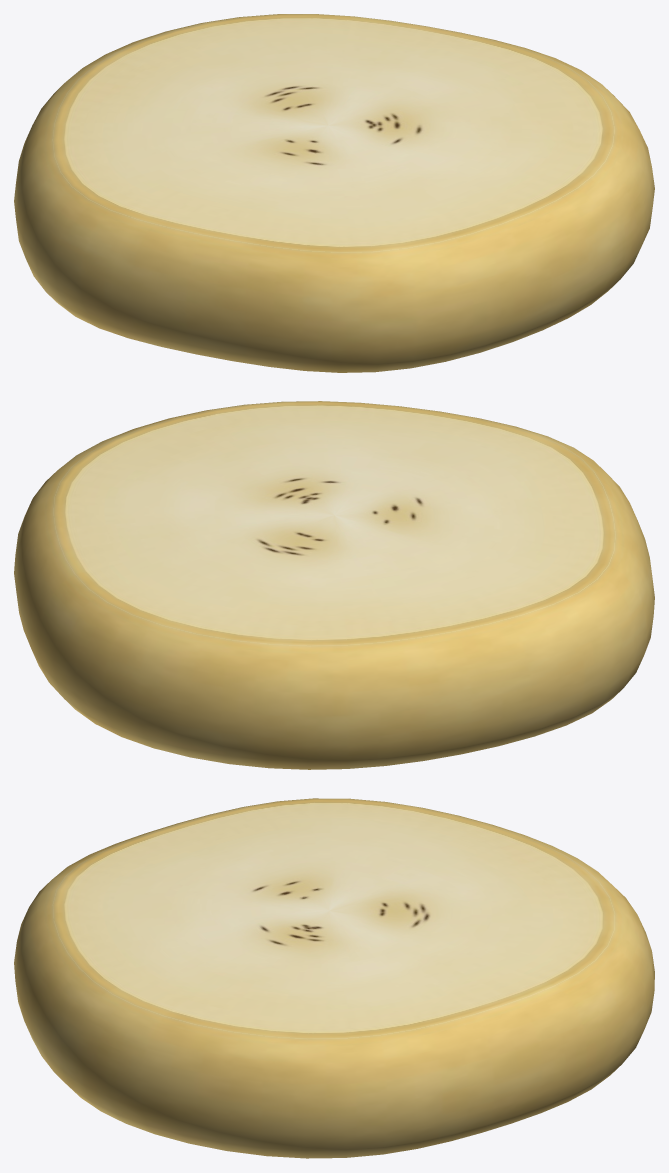
File: _pedacos_banana.glb
3 renders of one model, top to bottom at view 1: azimuth 30°, elevation 25°; view 2: azimuth 150°, elevation 25°; view 3: azimuth 270°, elevation 25°, orthographic. The views are drawn at different scales.
Parts seen in each view (by area): view 1: _pedacos_banana_5; view 2: _pedacos_banana_5; view 3: _pedacos_banana_5.
Part boxes in pixels (x1,y1,x2,y2): _pedacos_banana_5: (14, 14, 654, 372); _pedacos_banana_5: (14, 401, 654, 769); _pedacos_banana_5: (14, 798, 654, 1158).
Bounding box in the file's own units: 0.342 × 0.077 × 0.3381.
Materials: 1 (1 with a texture image).
